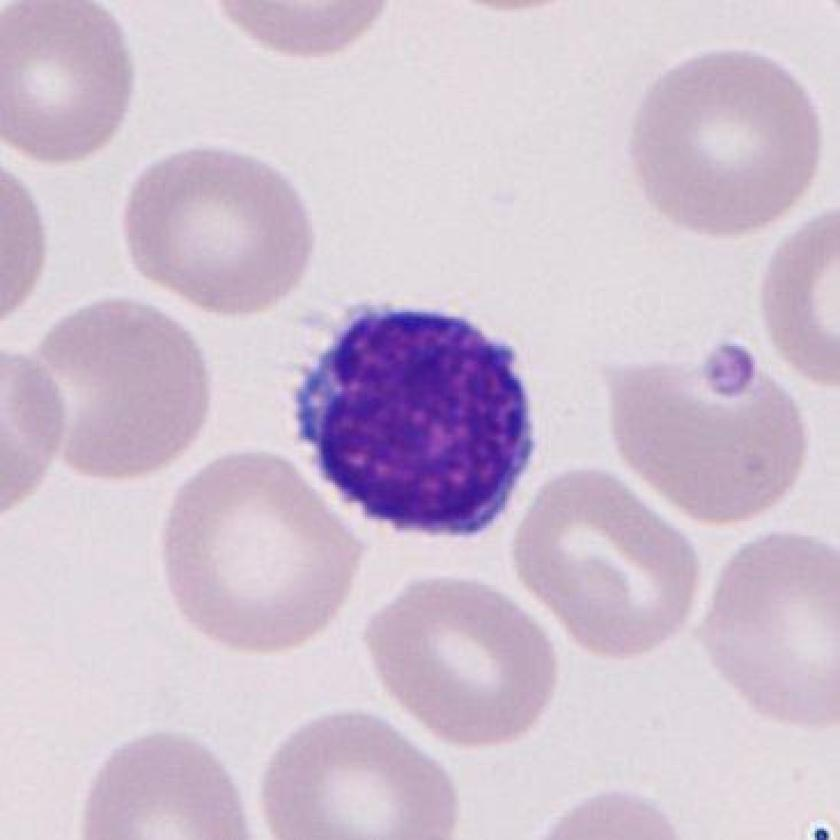lymphocyte: (272, 286, 552, 561)
